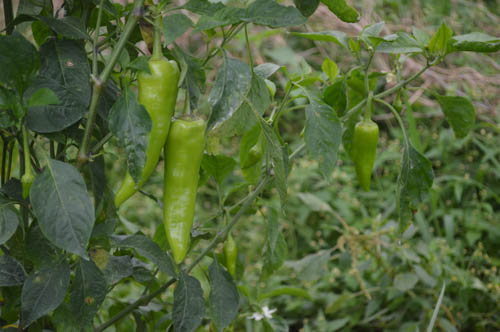ChiliPepper: (111, 61, 176, 211), (161, 118, 209, 268), (354, 122, 376, 195)
